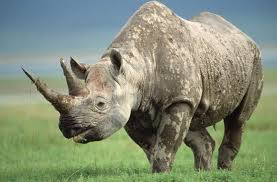Rhinoceros: (14, 2, 267, 178)
